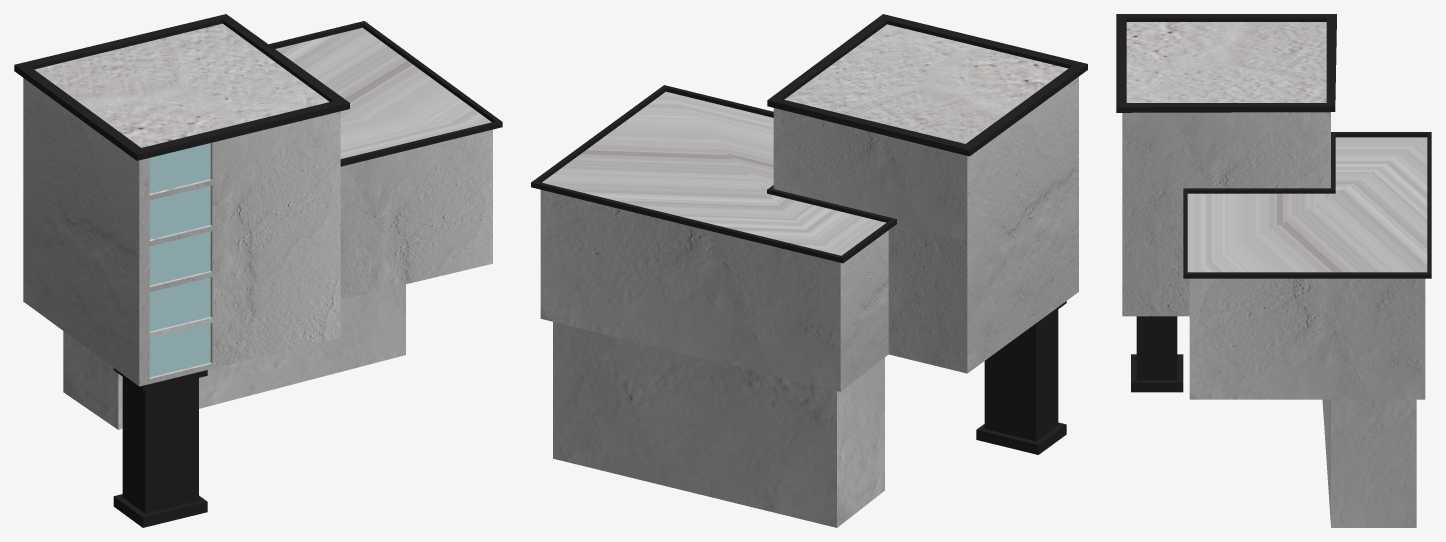
The model's file is Mini_villa.fbx.
3 renders of one model, left to right at view 1: azimuth 30°, elevation 25°; view 2: azimuth 150°, elevation 25°; view 3: azimuth 270°, elevation 25°, orthographic. The views are drawn at different scales.
Visible parts, largest first — view 1: mini_villa; view 2: mini_villa; view 3: mini_villa.
Part boxes in pixels (left/top/right/bottom): mini_villa: left=14, top=14, right=502, bottom=527; mini_villa: left=531, top=14, right=1087, bottom=527; mini_villa: left=1116, top=14, right=1431, bottom=527.
Bounding box in the file's own units: 4377 × 3970 × 3302.
Materials: 3 (1 with a texture image).
